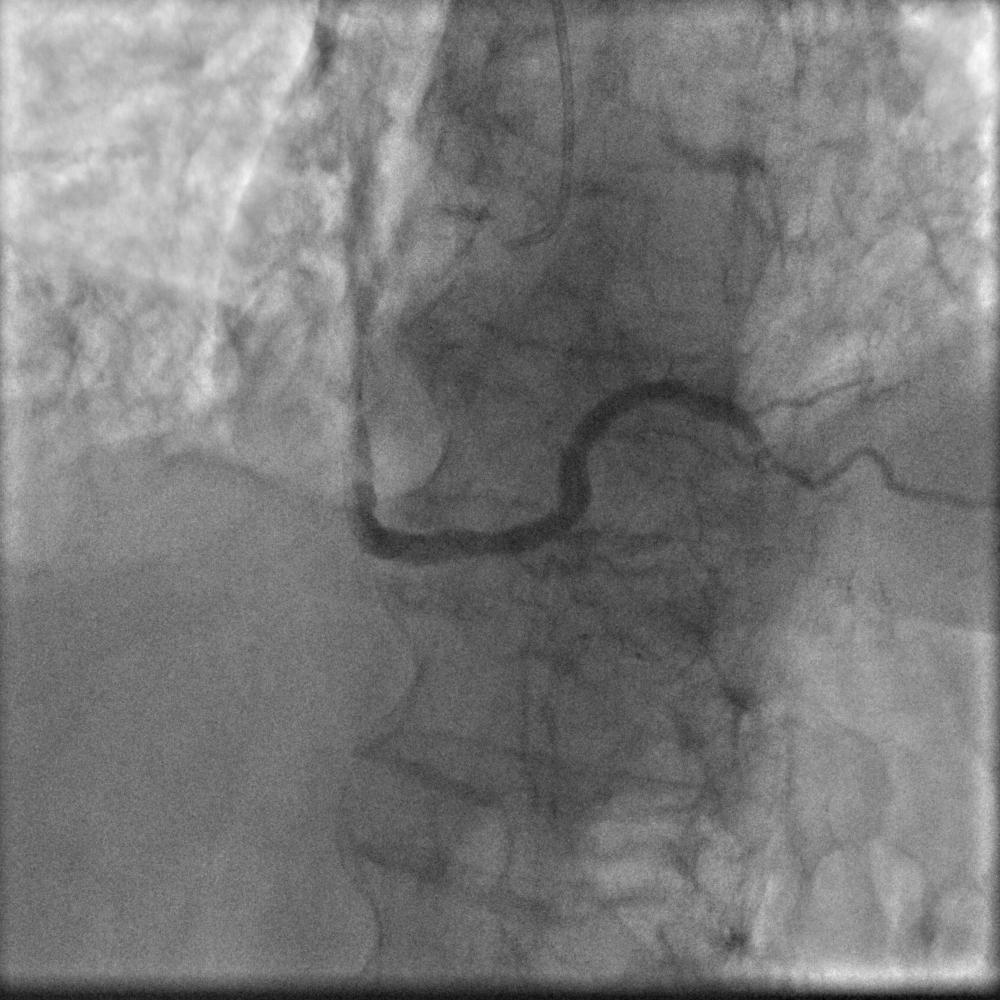Stenosis: (746, 403, 793, 488)
